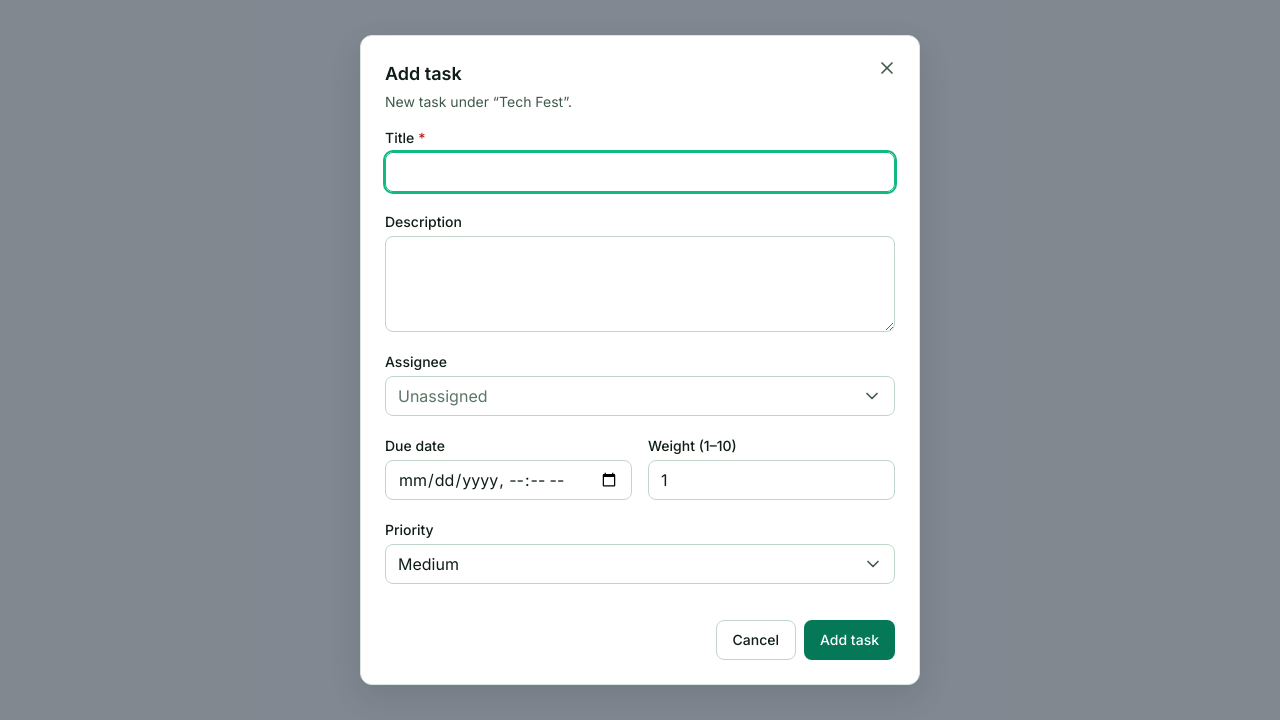
Test: NodeFormDialog: add › treats an empty weight as an error, not as zero
Type "x" into the field labelled "Title*" at x=640, y=172, box left=385, top=152, right=895, bottom=192
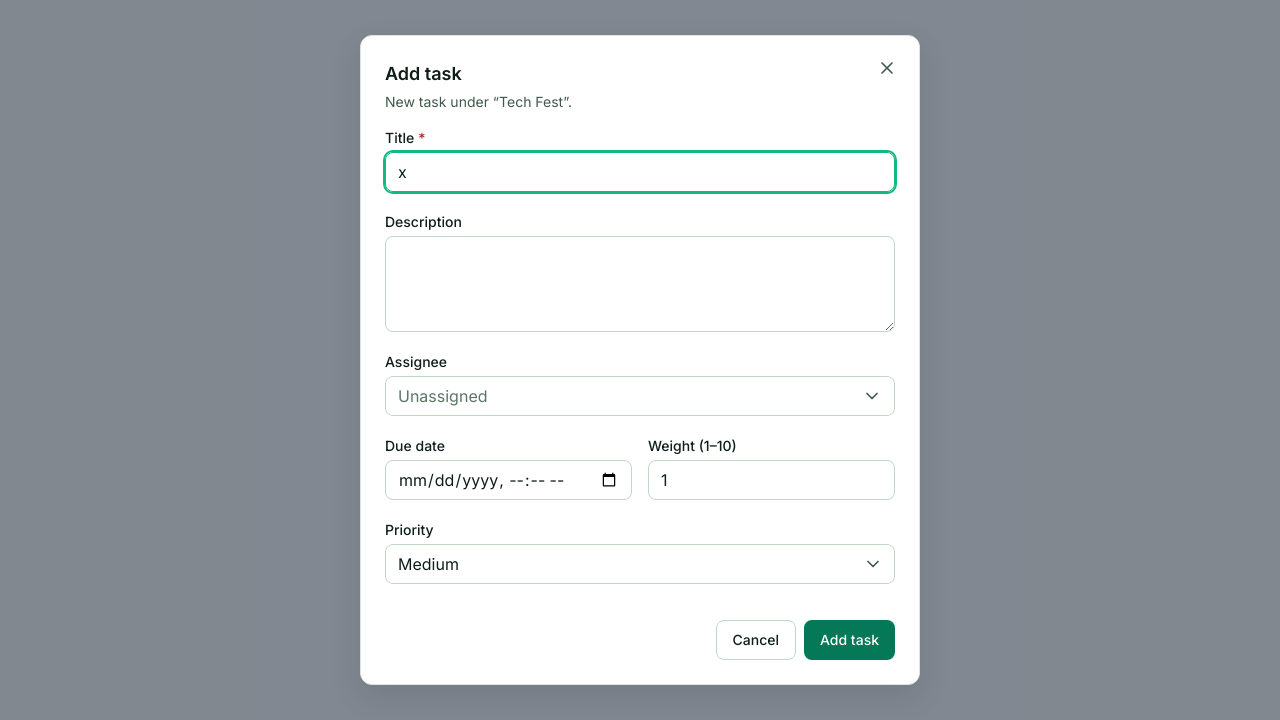
Clear the number field labelled "Weight (1–10)" at x=772, y=480, box left=648, top=460, right=895, bottom=500
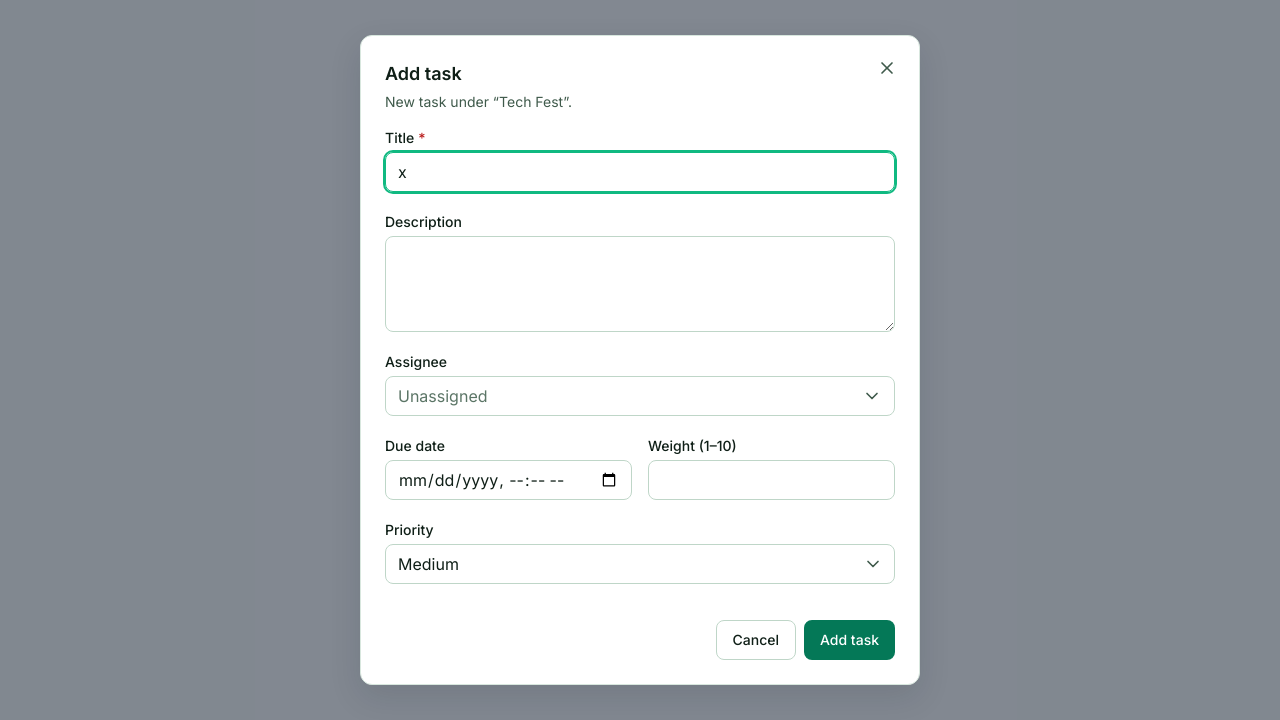
Click the button "Add task" at x=850, y=640, box left=804, top=620, right=895, bottom=660
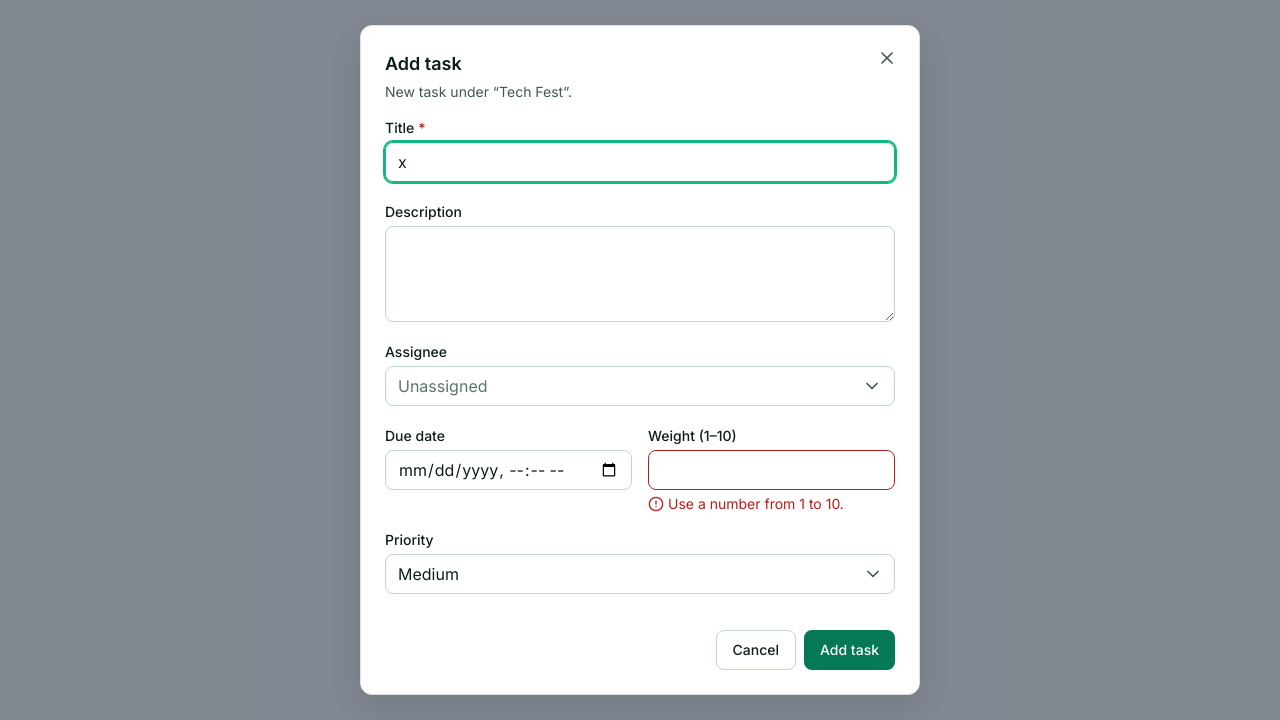
Check: the text "Use a number from 1 to 10." is shown, box left=648, top=495, right=844, bottom=512
